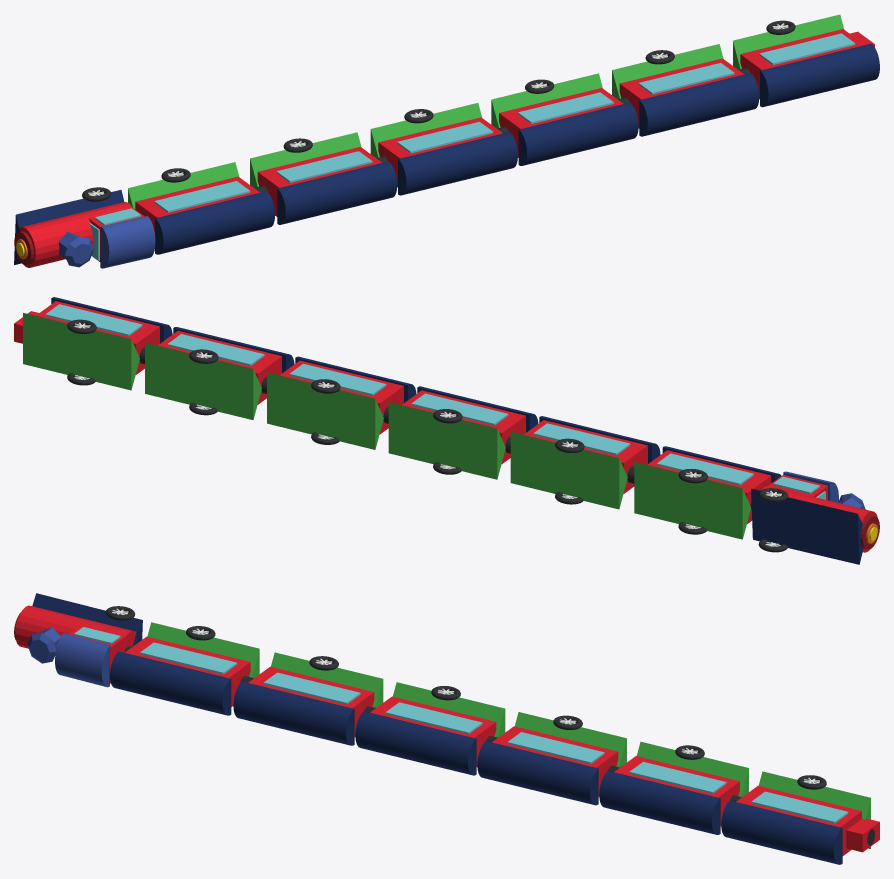
Rendered from tinker.obj.
3 renders of one model, top to bottom at view 1: azimuth 30°, elevation 25°; view 2: azimuth 150°, elevation 25°; view 3: azimuth 330°, elevation 25°, orthographic.
Visible parts, largest first — view 1: group_0_1650274, group_0_15277357, group_0_4634441, group_0_7720667, group_0_3888547, group_0_2829873, group_0_16448250; view 2: group_0_4634441, group_0_1650274, group_0_15277357, group_0_7720667, group_0_2829873, group_0_16448250, group_0_3888547; view 3: group_0_1650274, group_0_15277357, group_0_4634441, group_0_7720667, group_0_3888547, group_0_2829873.
Part boxes in pixels (x1=…): group_0_1650274: x1=14, y1=43, x2=879, y2=264; group_0_15277357: x1=19, y1=29, x2=874, y2=267; group_0_4634441: x1=128, y1=14, x2=844, y2=208; group_0_7720667: x1=90, y1=33, x2=855, y2=260; group_0_3888547: x1=58, y1=216, x2=155, y2=268; group_0_2829873: x1=82, y1=20, x2=795, y2=215; group_0_16448250: x1=88, y1=23, x2=788, y2=196; group_0_4634441: x1=23, y1=313, x2=751, y2=539; group_0_1650274: x1=51, y1=297, x2=863, y2=564; group_0_15277357: x1=14, y1=301, x2=877, y2=552; group_0_7720667: x1=45, y1=304, x2=825, y2=499; group_0_2829873: x1=67, y1=319, x2=788, y2=552; group_0_16448250: x1=74, y1=322, x2=781, y2=546; group_0_3888547: x1=783, y1=471, x2=865, y2=509; group_0_1650274: x1=32, y1=593, x2=842, y2=864; group_0_15277357: x1=15, y1=605, x2=879, y2=855; group_0_4634441: x1=147, y1=622, x2=870, y2=848; group_0_7720667: x1=74, y1=627, x2=848, y2=823; group_0_3888547: x1=27, y1=627, x2=110, y2=687; group_0_2829873: x1=105, y1=606, x2=874, y2=845.
Size of the model in its own units: 574 by 36.37 by 53.
